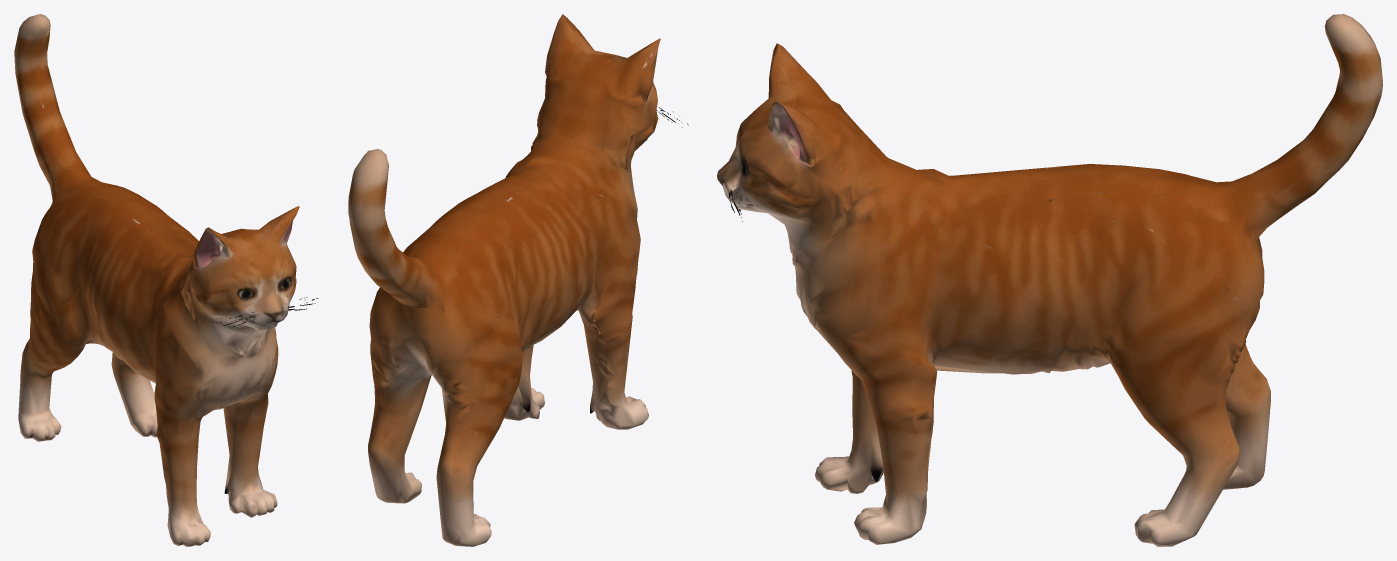
The model's file is model_cat.glb.
3 renders of one model, left to right at view 1: azimuth 30°, elevation 25°; view 2: azimuth 150°, elevation 25°; view 3: azimuth 270°, elevation 25°, orthographic. The views are drawn at different scales.
Visible parts, largest first — view 1: world; view 2: world; view 3: world.
Part boxes in pixels (box(x1,y1,x2,y2)): world: box(14, 14, 318, 546); world: box(348, 14, 688, 546); world: box(717, 14, 1382, 546).
Bounding box in the file's own units: 0.2845 × 0.8202 × 0.9997.
Materials: 1 (1 with a texture image).
